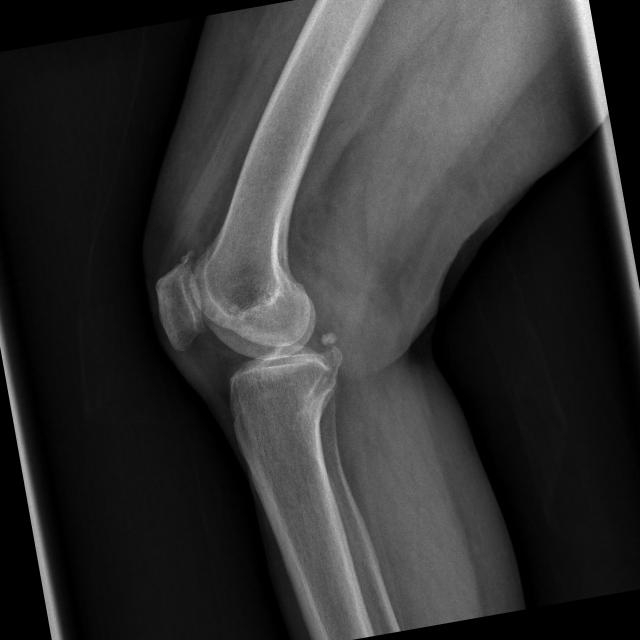Knee: (145, 219, 354, 453)
